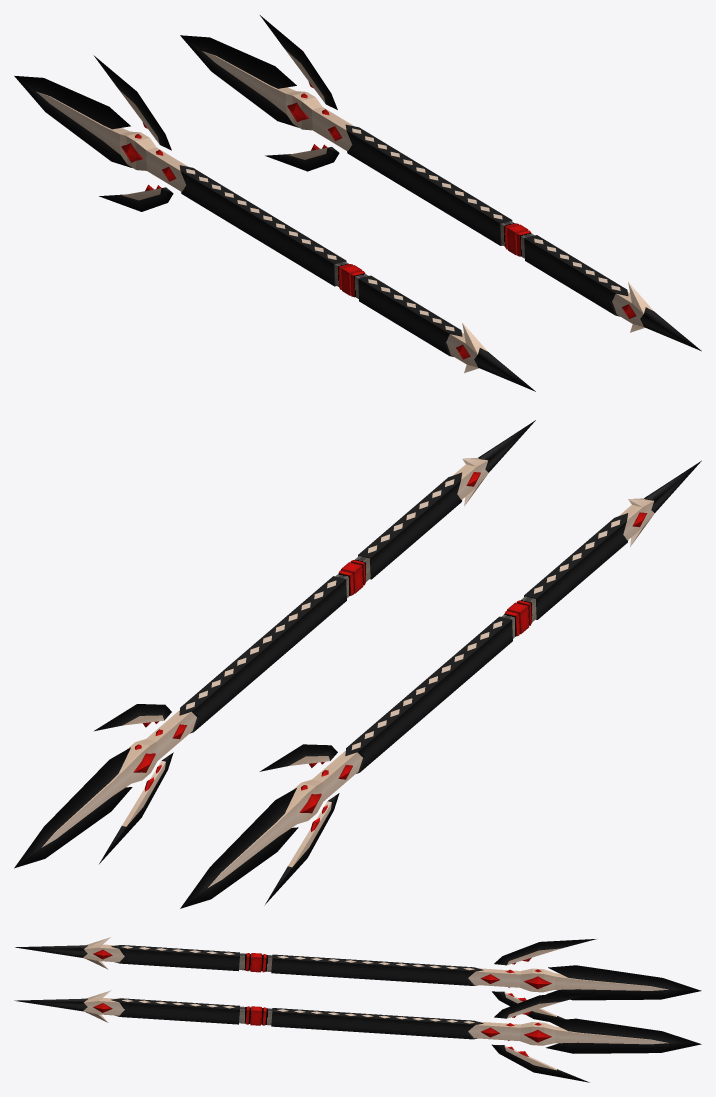
File: agony.glb
3 views of the same model, one above another, from view 1: azimuth 30°, elevation 25°; view 2: azimuth 150°, elevation 25°; view 3: azimuth 270°, elevation 25° (orthographic). The views are drawn at different scales.
Visible parts, largest first — view 1: main__Tool_R, off__Tool_L; view 2: main__Tool_R, off__Tool_L; view 3: main__Tool_R, off__Tool_L.
Boxes of the visible parts, left/top/right/bottom form: main__Tool_R: left=180, top=15, right=701, bottom=351; off__Tool_L: left=14, top=55, right=535, bottom=391; main__Tool_R: left=14, top=420, right=535, bottom=868; off__Tool_L: left=180, top=460, right=701, bottom=908; main__Tool_R: left=14, top=990, right=701, bottom=1082; off__Tool_L: left=15, top=937, right=701, bottom=1021.
Bounding box in the file's own units: 0.8528 × 0.6057 × 4.09.
Materials: 1 (1 with a texture image).
